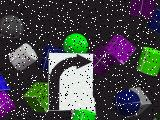Right: (48, 53, 94, 111)
